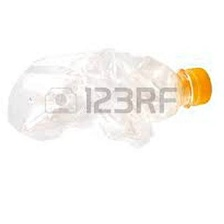bottle: (4, 46, 217, 150)
